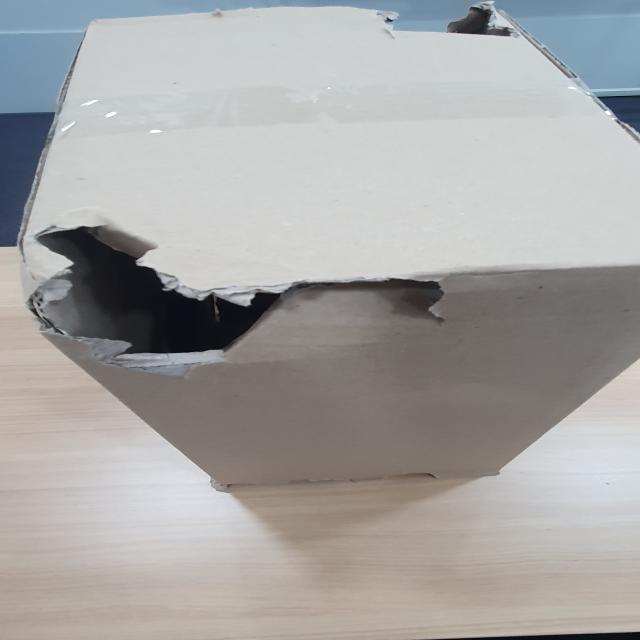hole: (29, 222, 463, 370), (355, 6, 521, 44)
